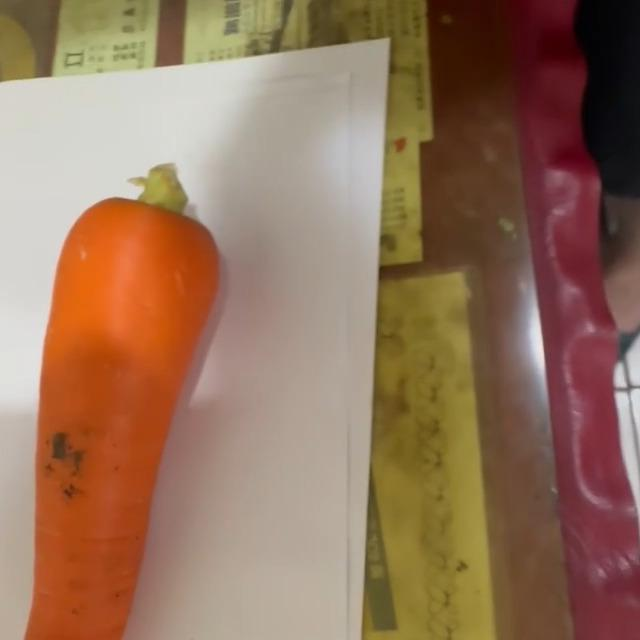carrot: (14, 164, 224, 640)
